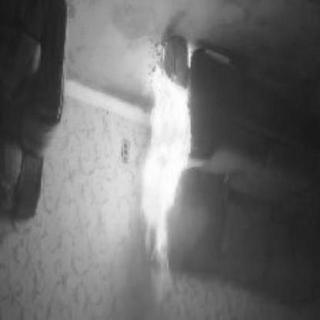Fire: (128, 70, 190, 267)
